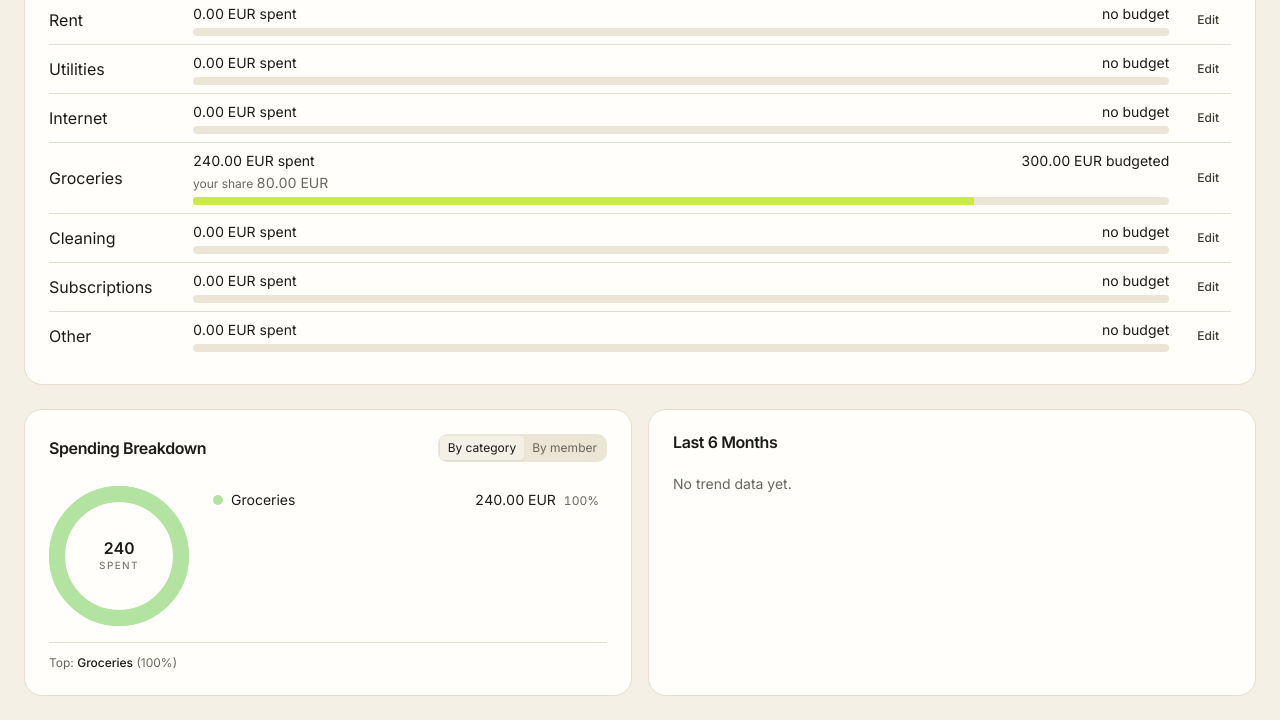
Test: BudgetPage roommate mode › Spending Breakdown offers a per-member toggle and lists each member
The width and height of the screenshot is (1280, 720).
(page scrolled)
Expected: the element with test id "breakdown-mode-toggle" is shown, [438, 434, 607, 462]
# Switching to "By member" renders one legend row per member.
Click the button with test id "breakdown-mode-member" at (565, 448), box [524, 436, 605, 460]
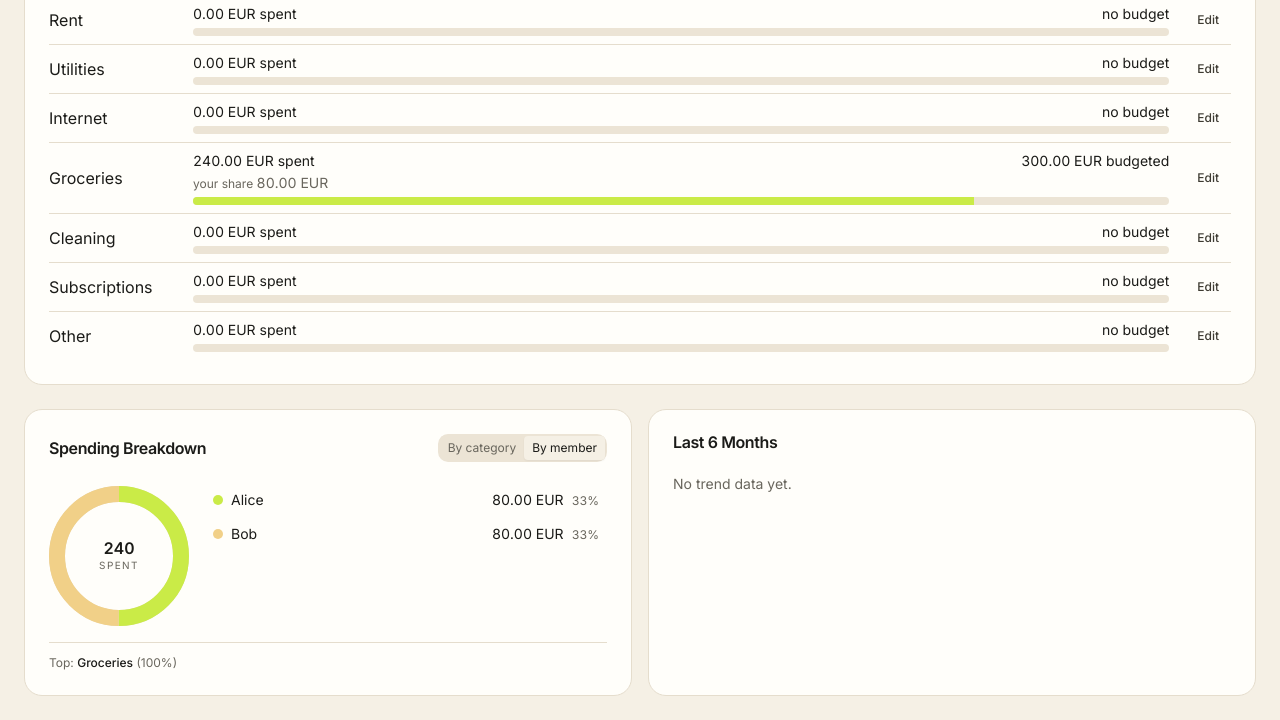
Now the button with test id "legend-row-member-mem-alice-001" is shown, box [205, 486, 607, 514]
Now the button with test id "legend-row-member-mem-bob-001" is shown, box [205, 520, 607, 548]
